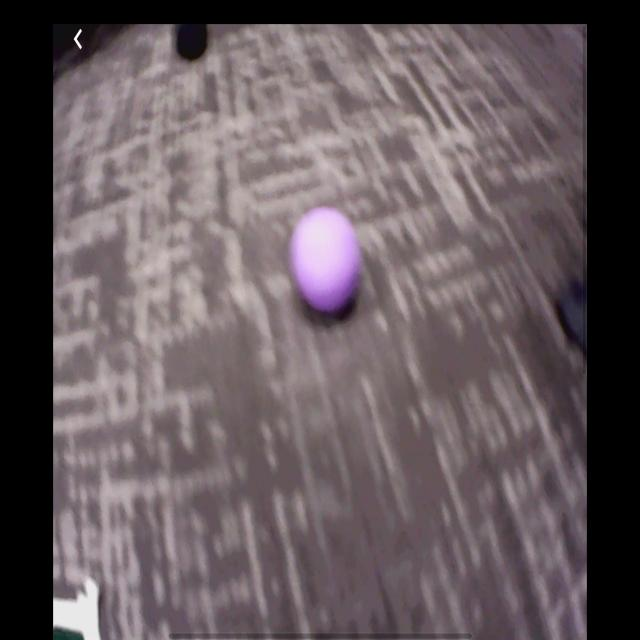ball: (289, 205, 363, 319)
